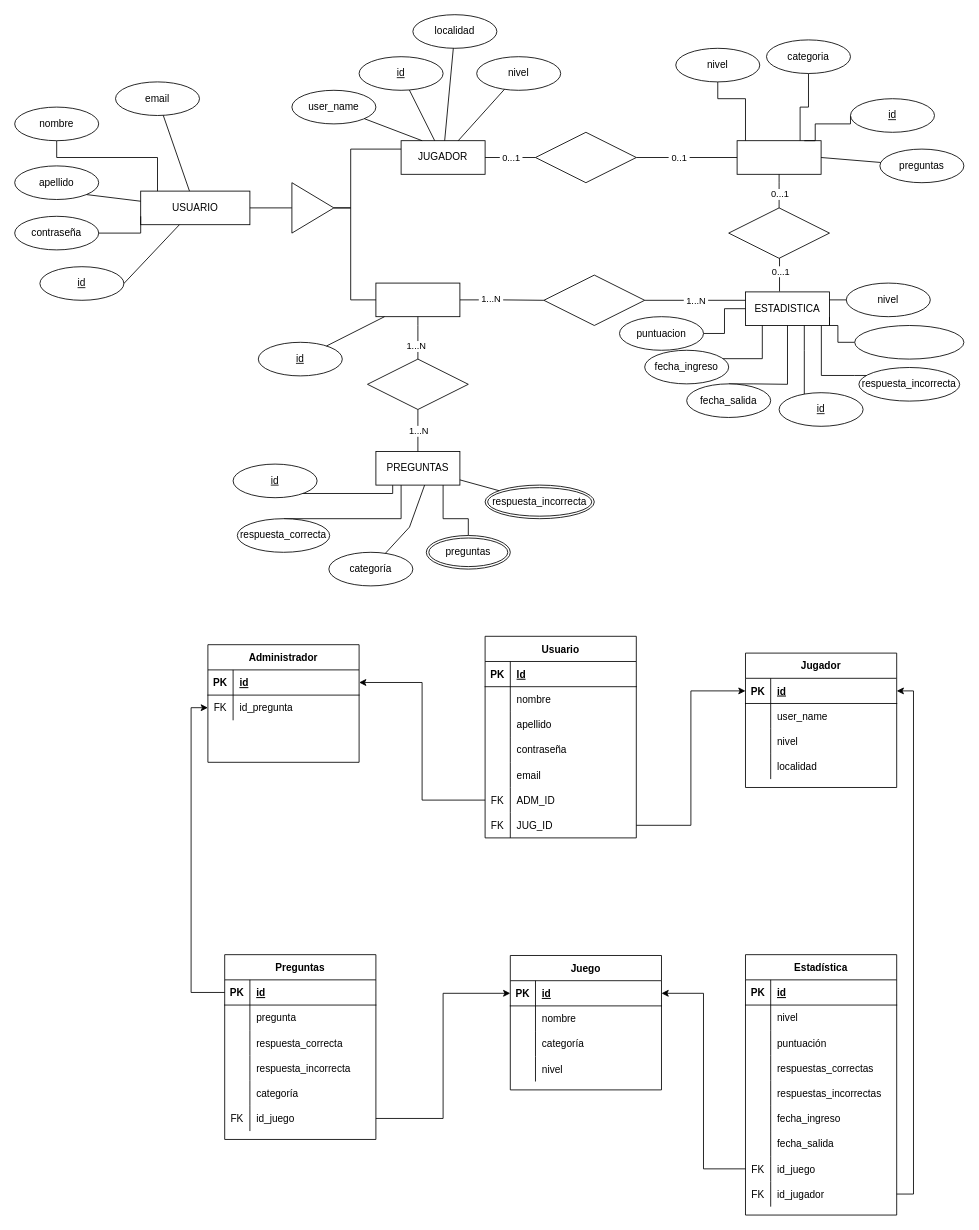
This 979x1230 diagram has some shape labels left out. Here are the shapes that lost their labels. From the top down, the centre of each, then its label:
pixel 585 157: juega_un
pixel 778 157: JUEGOS
pixel 779 232: tiene
pixel 417 299: ADMIN
pixel 594 300: accedes_a
pixel 909 342: respuesta_corresta
pixel 417 384: carga
